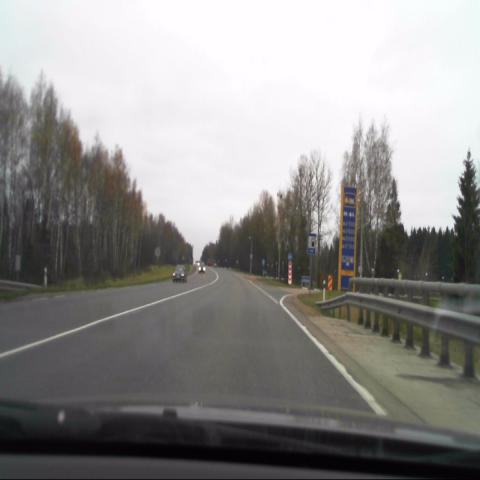7_3: (307, 232, 317, 254)
